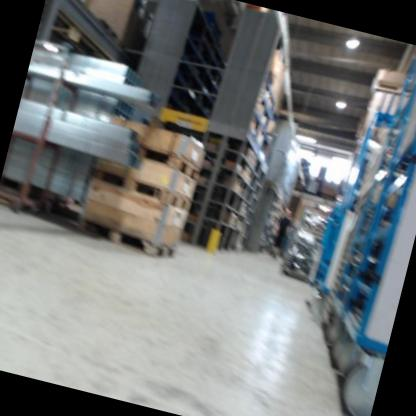pallet: (75, 215, 179, 263), (90, 166, 195, 213), (133, 139, 205, 182), (369, 77, 404, 99)
stillage: (275, 231, 328, 292)
